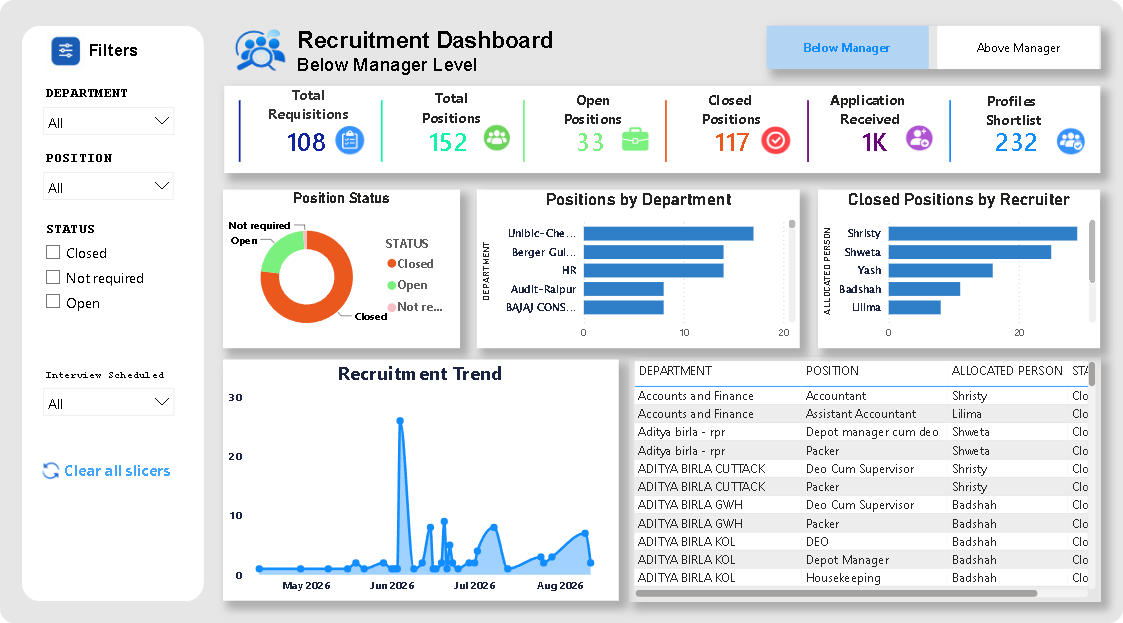

The page's visual inventory and layout, read from the dashboard file:
{"tool":"powerbi","page":{"name":"Below Manager","canvas":[1280,720],"ordinal":0},"visuals":[{"type":"shape","box":[16.2,27.4,210.2,664.3],"z":0},{"type":"donutChart","title":"Position Status","fields":{"Category":["GT-Below Manager.STATUS"],"Y":["Sum(GT-Below Manager.NO OF POSITION)"]},"box":[247.5,216.4,273.7,182.9],"z":1000},{"type":"clusteredBarChart","title":"Positions by Department","fields":{"Category":["GT-Below Manager.DEPARTMENT"],"Y":["Sum(GT-Below Manager.NO OF POSITION)"]},"box":[541.1,216.4,373.2,182.9],"z":2000},{"type":"clusteredBarChart","title":"Closed Positions by Recruiter","fields":{"Category":["GT-Below Manager.ALLOCATED PERSON"],"Y":["Sum(GT-Below Manager.Closed)"]},"box":[934.2,216.4,325.9,182.9],"z":3000},{"type":"lineChart","title":"Recruitment Trend","fields":{"Category":["GT-Below Manager.DATE OF REQUISITION.Variation.Date Hierarchy.Month"],"Y":["GT-Below Manager.Requisition Count"]},"box":[247.5,413,456.5,278.6],"z":4000},{"type":"tableEx","fields":{"Values":["GT-Below Manager.DEPARTMENT","GT-Below Manager.POSITION","GT-Below Manager.ALLOCATED PERSON","GT-Below Manager.STATUS"]},"box":[716.5,409.3,543.6,282.4],"z":5000},{"type":"textbox","box":[69.7,39.8,104.5,32.3],"z":6000},{"type":"slicer","fields":{"Values":["GT-Below Manager.DEPARTMENT"]},"box":[29.9,90.8,171.7,63.4],"z":7000},{"type":"slicer","fields":{"Values":["GT-Below Manager.POSITION"]},"box":[29.9,165.4,171,63],"z":8000},{"type":"slicer","fields":{"Values":["GT-Below Manager.STATUS"]},"box":[29.9,247.5,170.4,151.8],"z":9000},{"type":"slicer","fields":{"Values":["GT-Below Manager.INTERVIEW SCHEDULE WITH"]},"box":[29.9,419.2,171.7,79.6],"z":10000},{"type":"cardVisual","title":"Total Weight","fields":{"Data":["GT-Below Manager.Total Requisitionss"]},"box":[245.7,92.9,165.4,98.3],"z":11000},{"type":"cardVisual","title":"Total Weight","fields":{"Data":["GT-Below Manager.Total Positionss"]},"box":[426.7,93.3,165,98],"z":12000},{"type":"cardVisual","title":"Total Weight","fields":{"Data":["GT-Below Manager.Closed Positionss"]},"box":[770,95.8,144.3,95.8],"z":13000},{"type":"cardVisual","title":"Total Weight","fields":{"Data":["GT-Below Manager.Applications Receiveds"]},"box":[926.7,95.8,160.5,95.8],"z":14000},{"type":"cardVisual","title":"Total Weight","fields":{"Data":["GT-Below Manager.Profiles Shortlisteds"]},"box":[1094.7,95.8,165,98],"z":15000},{"type":"textbox","box":[271.2,89.6,114,67.4],"z":16000},{"type":"textbox","box":[452.8,93.3,95.8,78.4],"z":17000},{"type":"textbox","box":[950.4,95.8,124.4,61],"z":18000},{"type":"textbox","box":[1120.8,97,124.4,77.1],"z":19000},{"type":"actionButton","box":[50.8,514.6,151.8,49.8],"z":20000},{"type":"cardVisual","title":"Total Weight","fields":{"Data":["GT-Below Manager.Open Positionss"]},"box":[608.3,93.3,148,98.3],"z":21000},{"type":"textbox","box":[631.9,95.8,124.4,78.4],"z":22000},{"type":"image","box":[312.2,130.6,74.4,60.5],"z":23000},{"type":"image","box":[511.3,135.6,60,50.9],"z":24000},{"type":"image","box":[843.4,134.3,64.7,48.5],"z":25000},{"type":"image","box":[1002.6,134.3,70.9,54.7],"z":26000},{"type":"image","box":[1194.2,131.9,51,54.7],"z":27000},{"type":"image","box":[660.5,121.9,90.8,72.1],"z":28000},{"type":"textbox","box":[328.4,23.6,923,72.1],"z":29000},{"type":"image","box":[247.5,27.4,80.9,63.4],"z":30000},{"type":"textbox","box":[789.9,95.8,124.4,75.9],"z":31000},{"type":"image","box":[30.2,34.3,72.7,43.9],"z":32000},{"type":"image","box":[30.2,524.2,37,35.7],"z":33000},{"type":"pageNavigator","box":[875.7,15.7,400,50],"z":34000}]}

Visuals, with their boxes in screenshot pixels (x1, y1, x2, y2), scaled from the page's 1280x720 canvas onto the 1123x623 screenshot:
shape: 14 24 199 599
"Position Status" donutChart: 217 187 457 346
"Positions by Department" clusteredBarChart: 475 187 802 346
"Closed Positions by Recruiter" clusteredBarChart: 820 187 1106 346
"Recruitment Trend" lineChart: 217 357 618 598
tableEx - GT-Below Manager.DEPARTMENT x GT-Below Manager.POSITION: 629 354 1106 599
textbox: 61 34 153 62
slicer - GT-Below Manager.DEPARTMENT: 26 79 177 133
slicer - GT-Below Manager.POSITION: 26 143 176 198
slicer - GT-Below Manager.STATUS: 26 214 176 346
slicer - GT-Below Manager.INTERVIEW SCHEDULE WITH: 26 363 177 432
"Total Weight" cardVisual: 216 80 361 165
"Total Weight" cardVisual: 374 81 519 166
"Total Weight" cardVisual: 676 83 802 166
"Total Weight" cardVisual: 813 83 954 166
"Total Weight" cardVisual: 960 83 1105 168
textbox: 238 78 338 136
textbox: 397 81 481 149
textbox: 834 83 943 136
textbox: 983 84 1092 151
actionButton: 45 445 178 488
"Total Weight" cardVisual: 534 81 664 166
textbox: 554 83 664 151
image: 274 113 339 165
image: 449 117 501 161
image: 740 116 797 158
image: 880 116 942 164
image: 1048 114 1092 161
image: 579 105 659 168
textbox: 288 20 1098 83
image: 217 24 288 79
textbox: 693 83 802 149
image: 26 30 90 68
image: 26 454 59 484
pageNavigator: 768 14 1119 57
